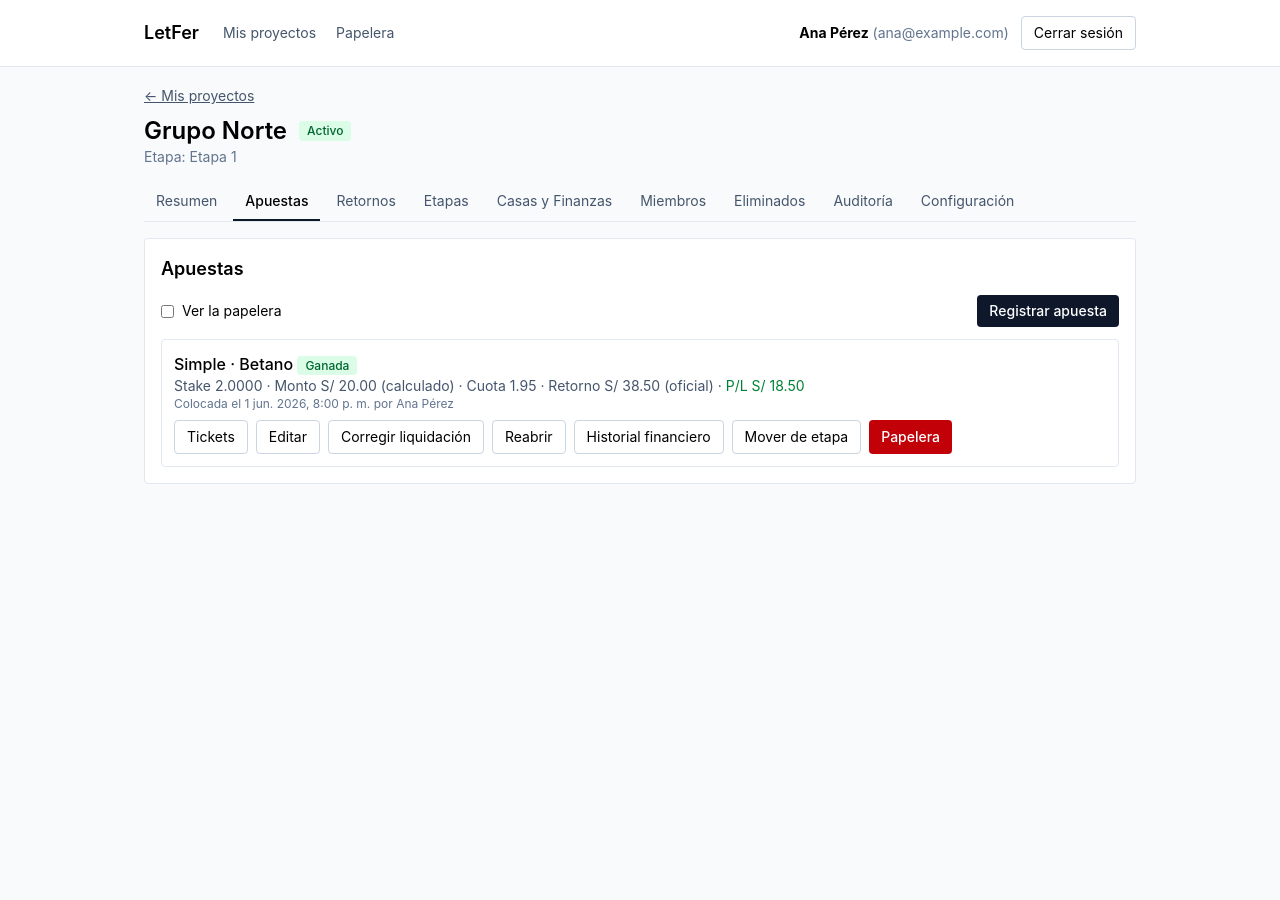
Test: corregir la liquidación (§112.3, D-A8) › exige al menos un cambio antes de calcular el impacto
Click the button "Corregir liquidación" at {"x": 406, "y": 437}, box [328, 420, 484, 454]
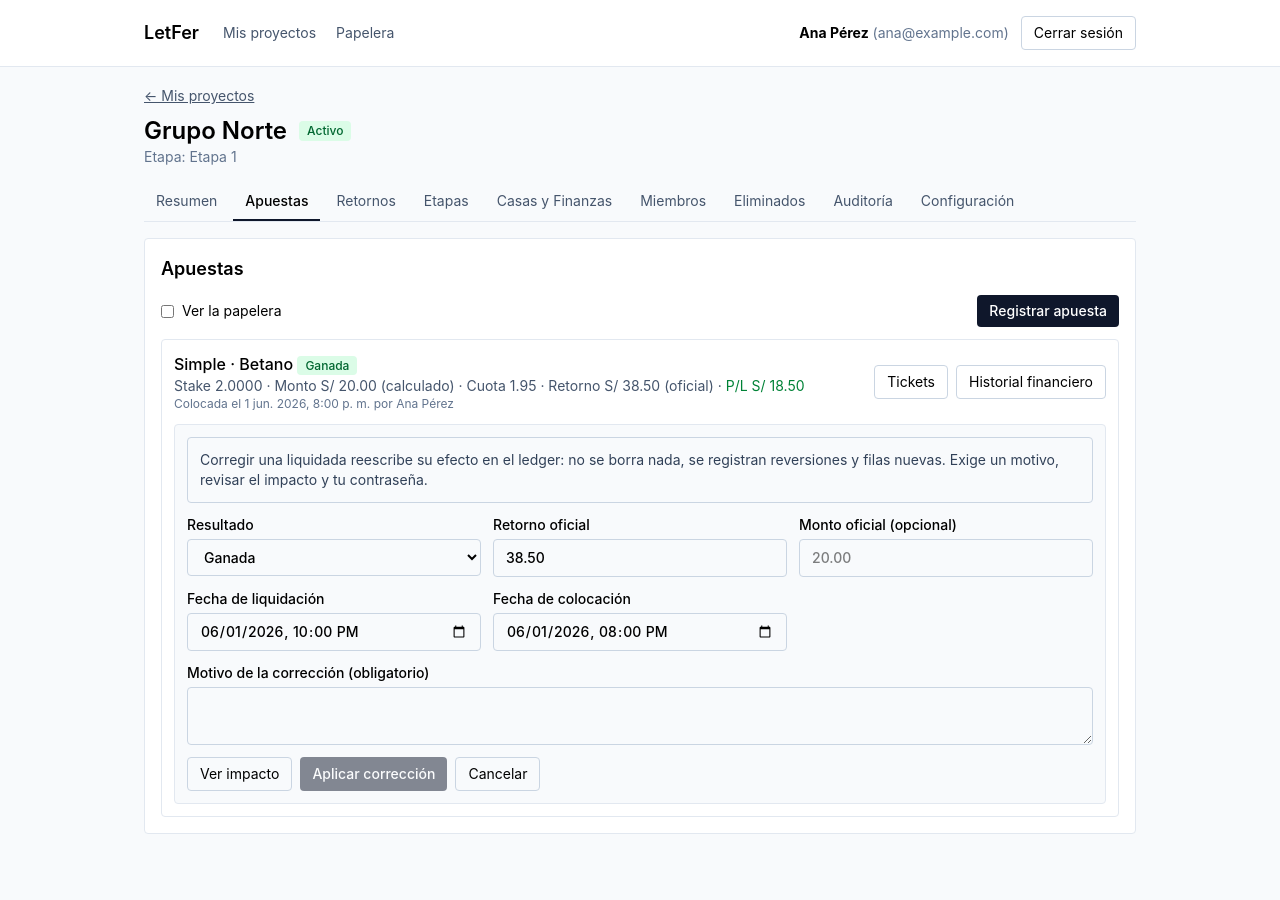
Type "x" into the text box labelled "Motivo de la corrección (obligatorio)" at {"x": 640, "y": 716}, box [187, 687, 1093, 745]
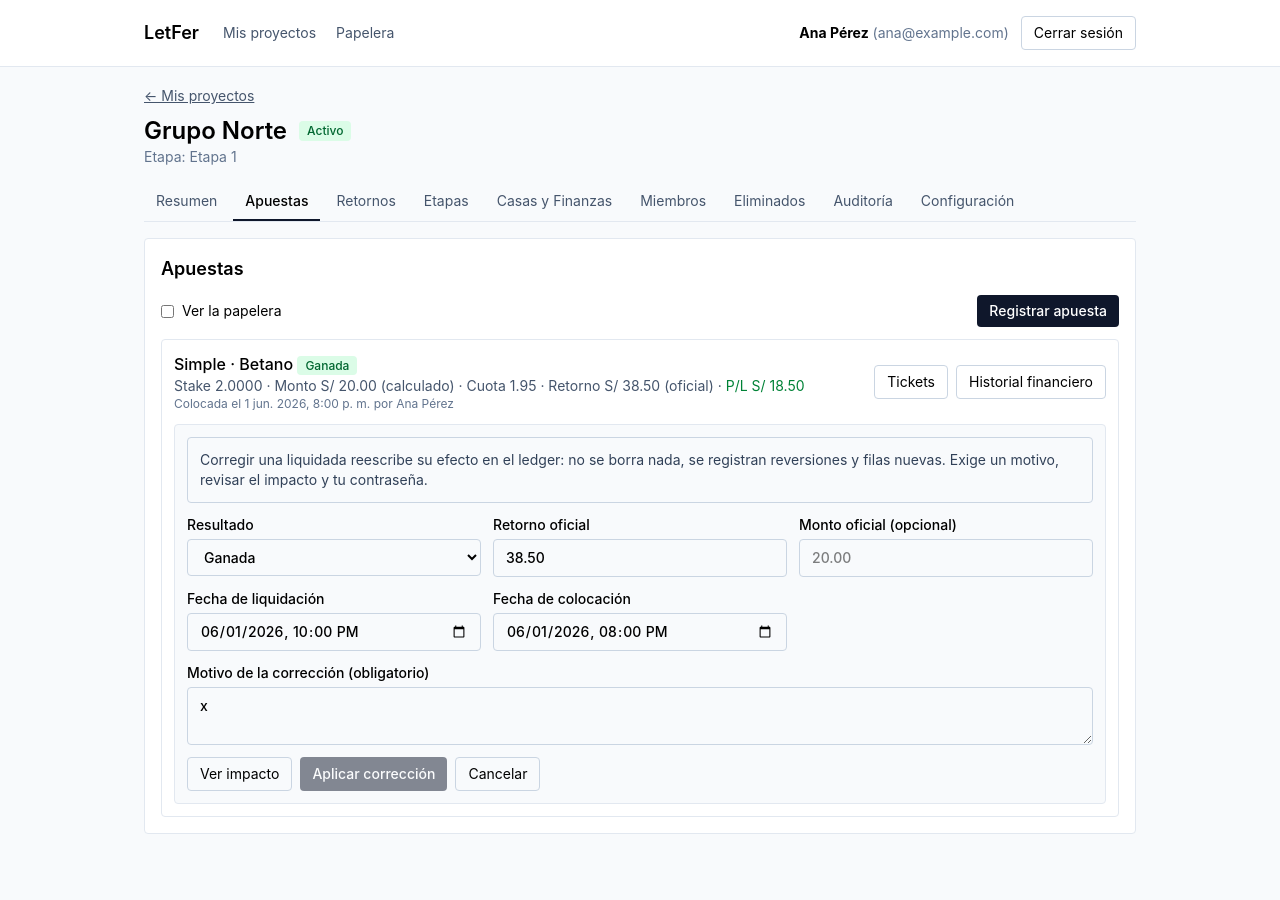
Click the button "Ver impacto" at {"x": 240, "y": 774}, box [187, 757, 292, 791]
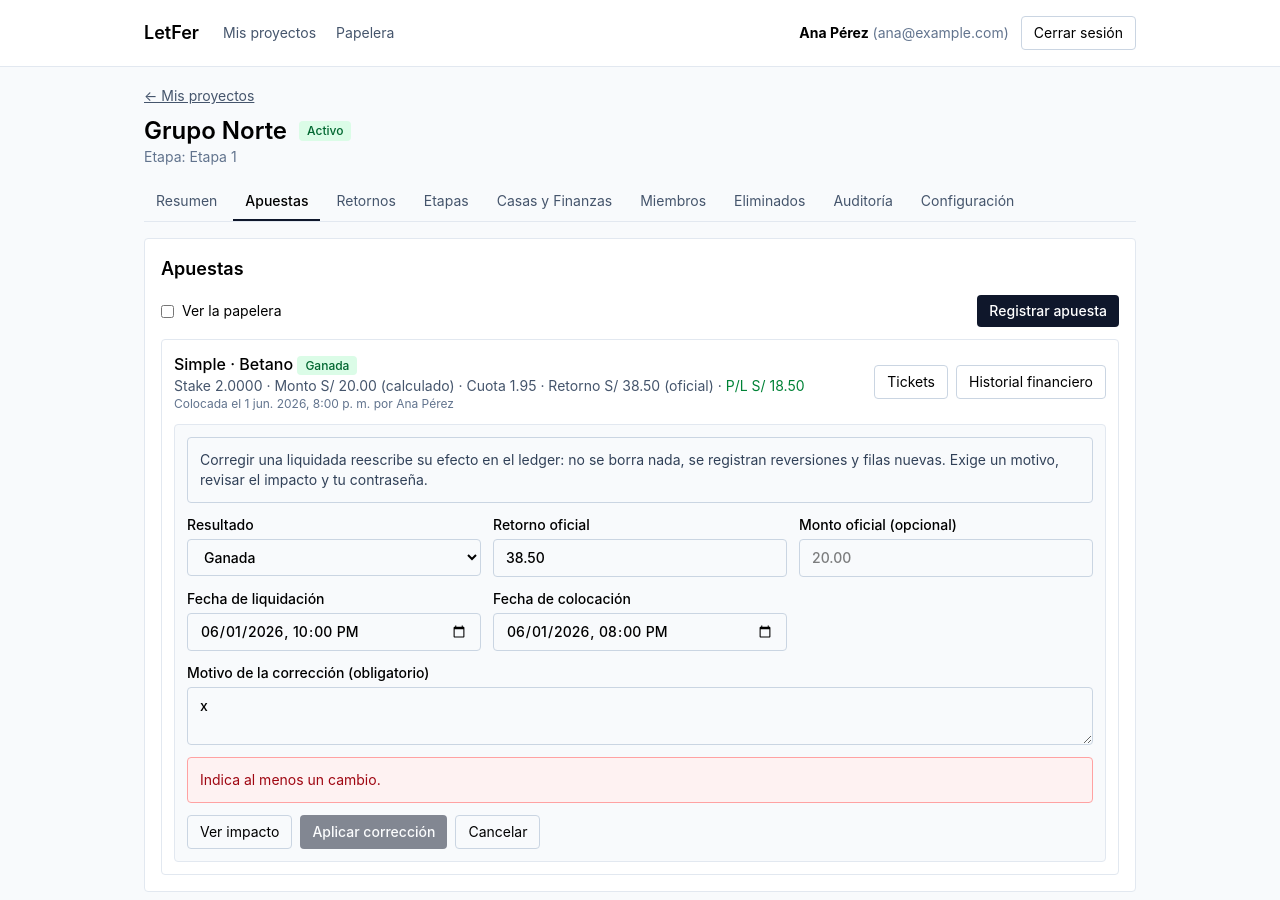
Expected: the text "Indica al menos un cambio." is shown, [187, 757, 1093, 803]
